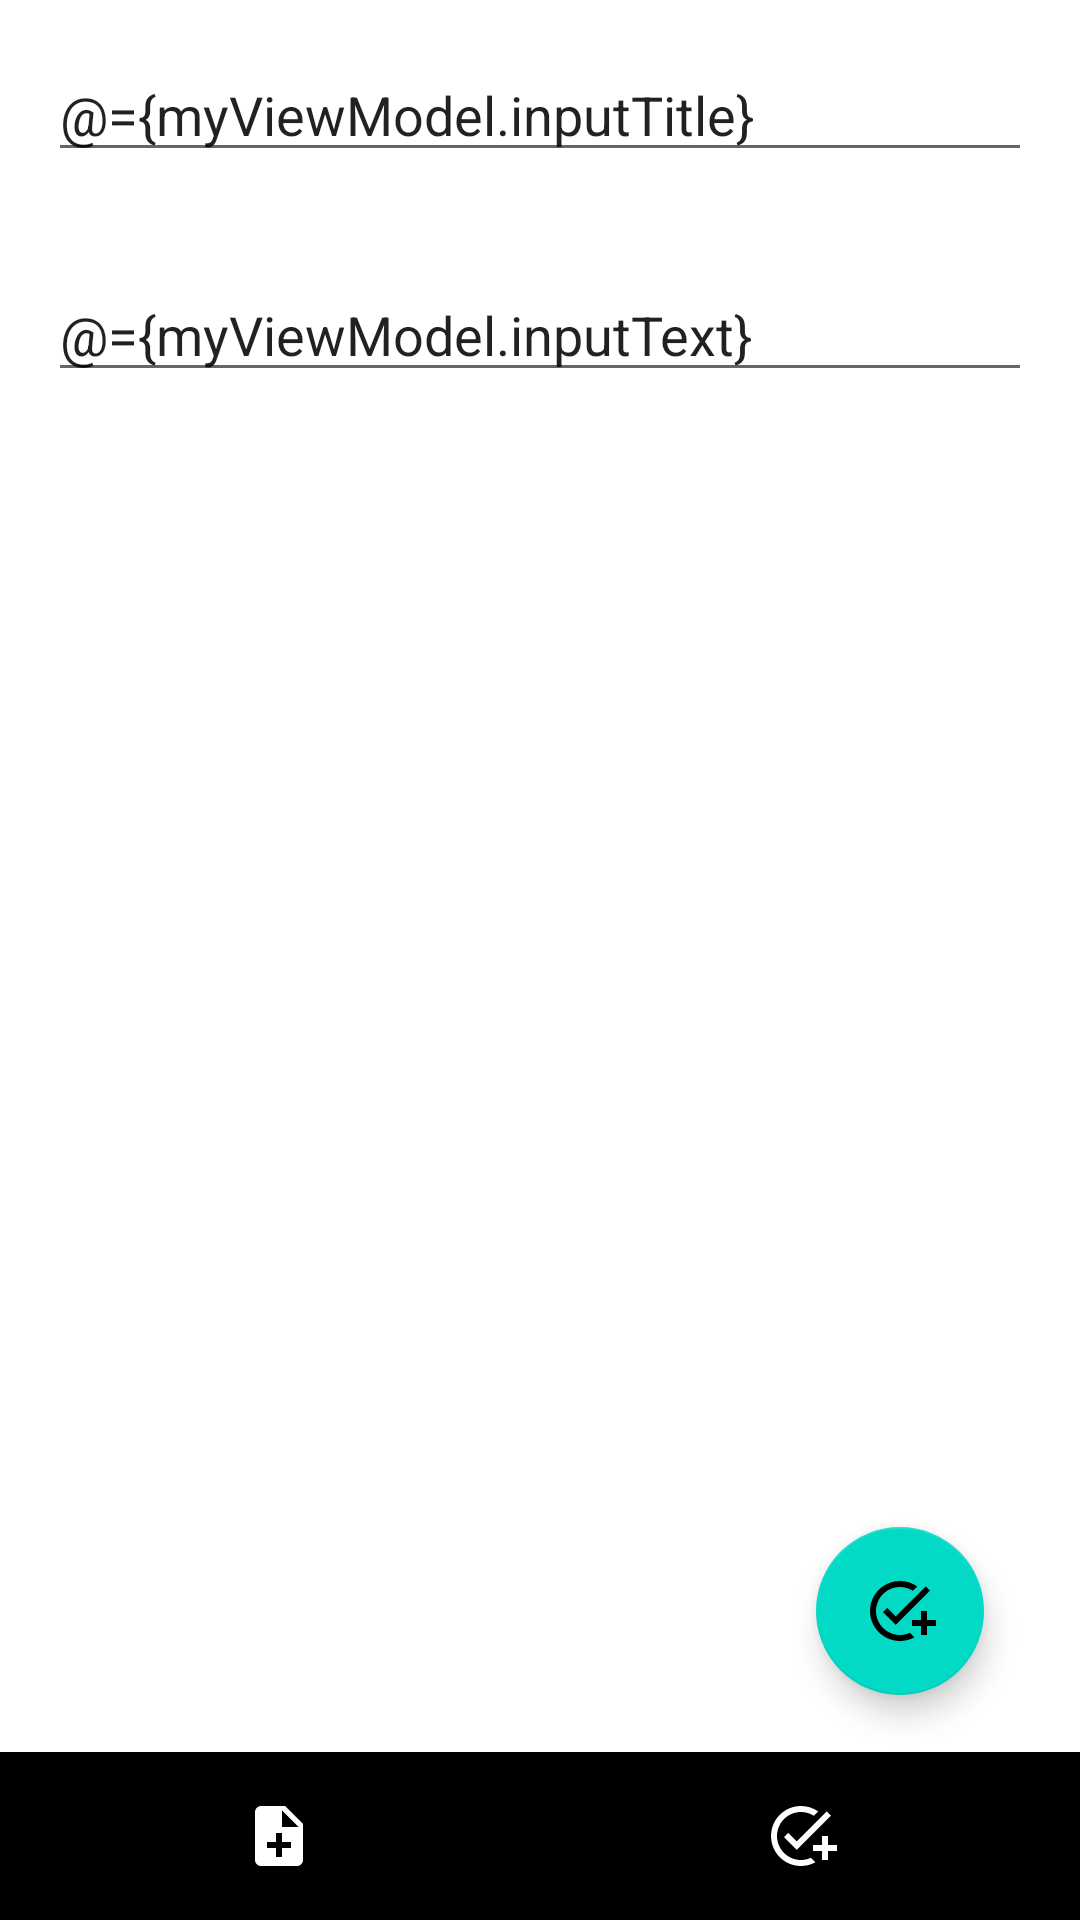

Named icons in this screenshot (1080×1920) and their centers, [x,y]:
add task: [900,1611], [804,1836]
note add: [279,1836]
